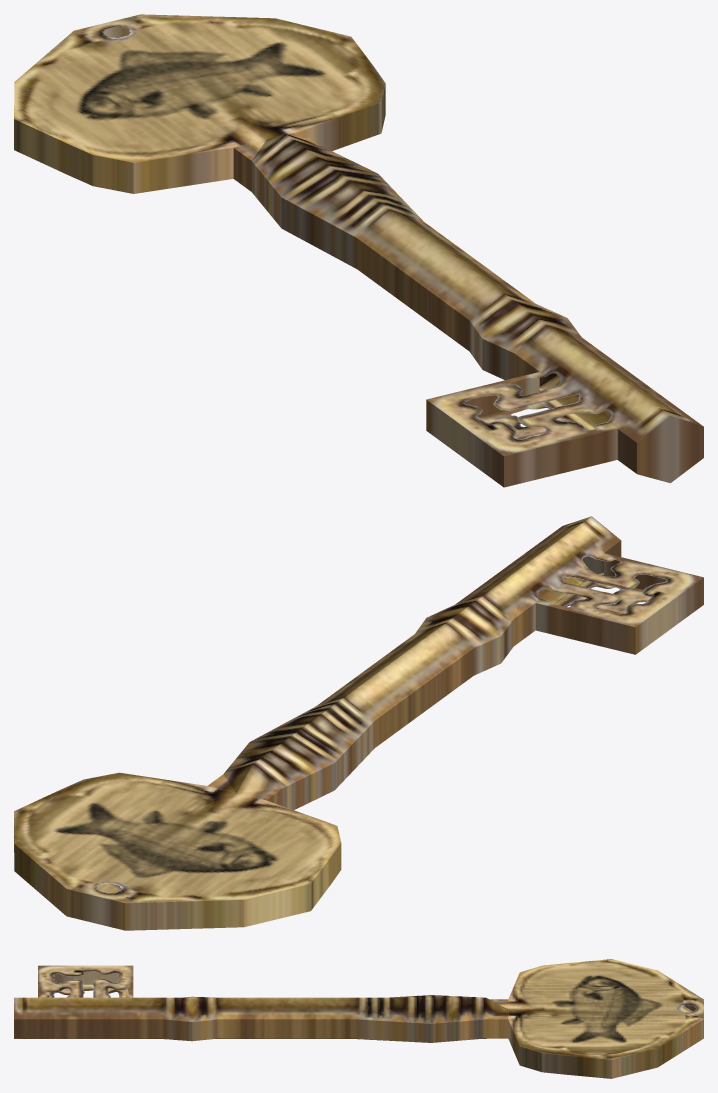
The model's file is key_a_fish.fbx.
The picture shows the model from 3 angles, top to bottom: view 1: azimuth 30°, elevation 25°; view 2: azimuth 150°, elevation 25°; view 3: azimuth 270°, elevation 25°; orthographic projection. The views are drawn at different scales.
Parts seen in each view (by area): view 1: key_a_fish; view 2: key_a_fish; view 3: key_a_fish.
Part boxes in pixels (x1,y1,x2,y2): key_a_fish: (14,14,703,487); key_a_fish: (14,516,703,930); key_a_fish: (14,959,703,1078).
Bounding box in the file's own units: 7.38 × 1.42 × 21.36.
Materials: 1 (1 with a texture image).
